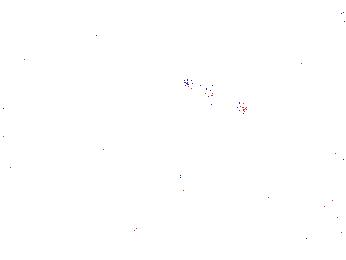glassfish: (151, 139, 189, 206), (114, 201, 176, 231)
redtail glassfish: (182, 78, 249, 118), (227, 3, 299, 32), (180, 52, 242, 81)
